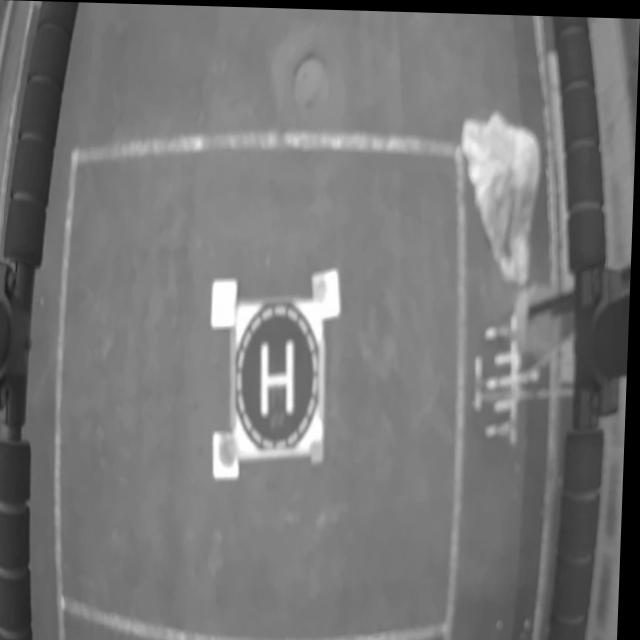Helipad: (263, 339, 297, 417)
